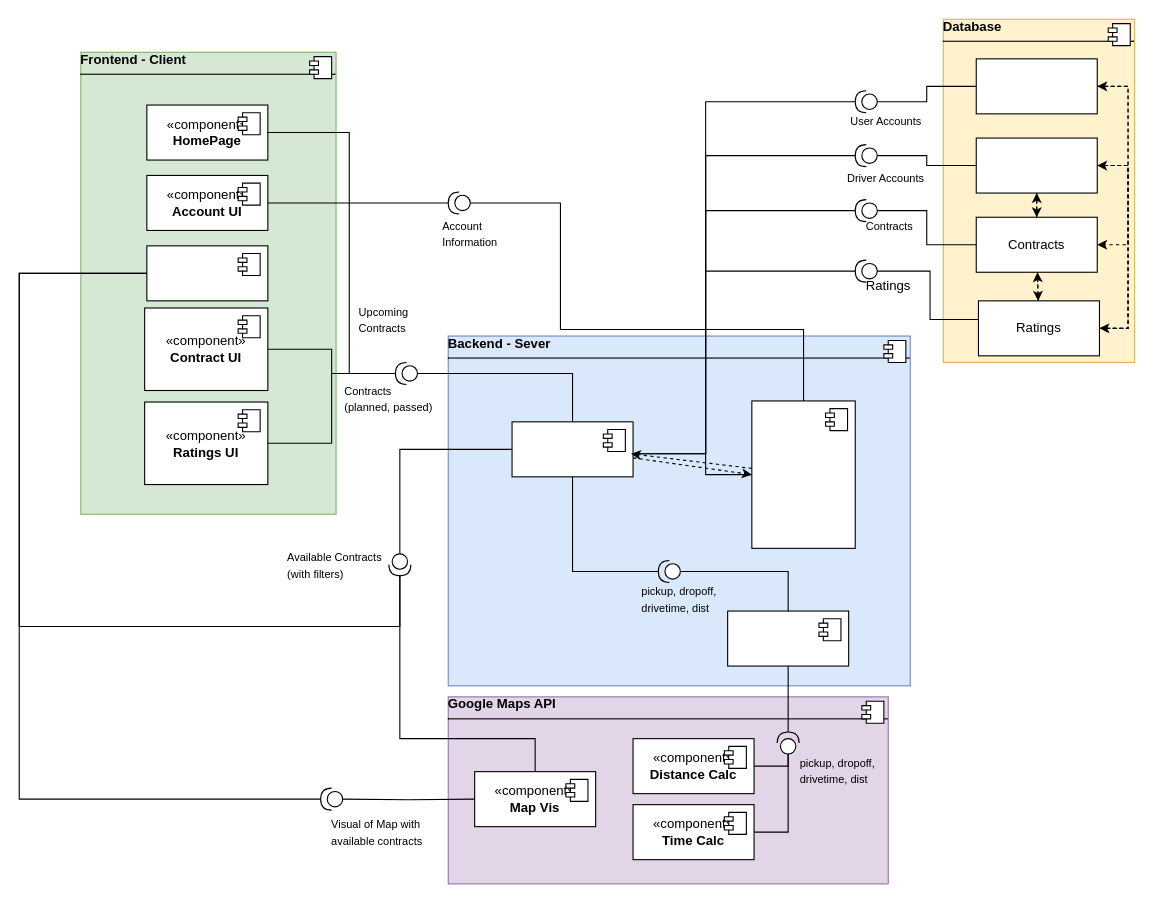
The diagram is 1156 pixels wide and 903 high, and some of its shapes have lost their labels. The shapes that lost their labels are listed below. From the top down, each one's centre as x and y in pixels, then its label:
At point 1036,86: "Users".
At point 1036,165: "Drivers".
At point 207,273: "«component» Map UI".
At point 572,449: "«component» Contract Manager".
At point 803,474: "«component» Account Manger".
At point 788,638: "«component» Location Manager".
